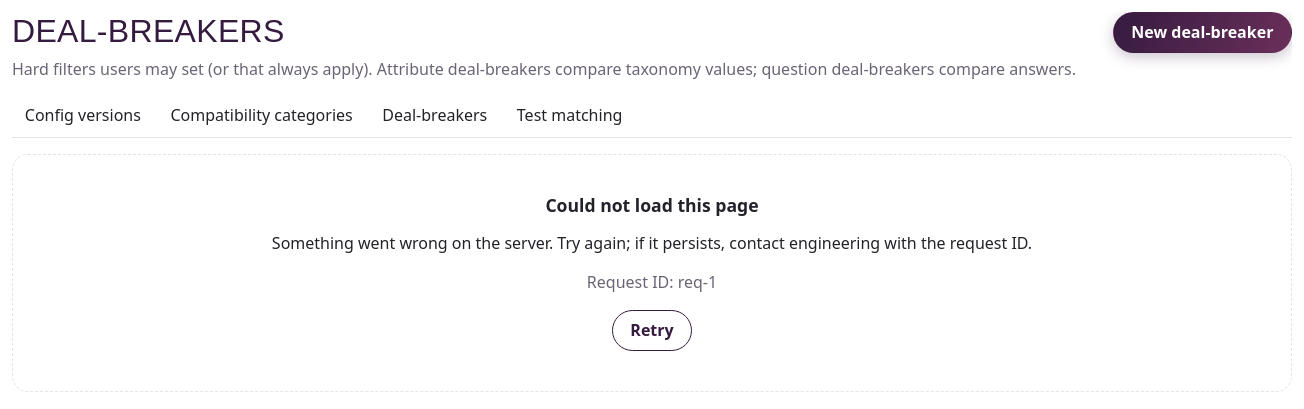
Test: DealBreakersPage › shows an error with retry and the empty state
The image size is (1304, 409).
Expected: the text "Something went wrong on the server. Try again; if it persists, contact engineering with the request ID." is shown, x1=272 y1=232 x2=1032 y2=254
What coordinates should you click on to do the following:
click the button "Retry"
I would click on:
 (652, 331)
Its box is x1=612 y1=310 x2=692 y2=351.
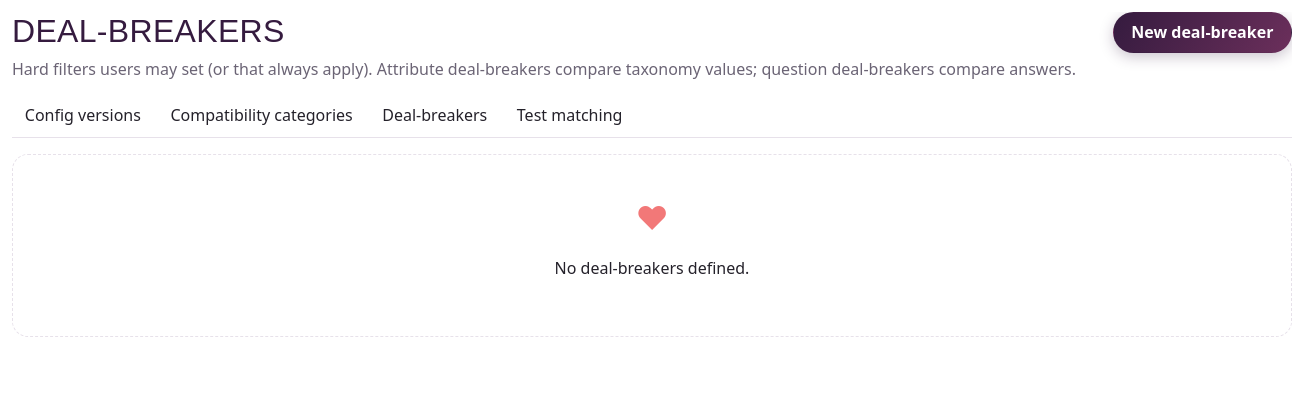
Expected: the text "No deal-breakers defined." is shown, x1=555 y1=257 x2=749 y2=279
